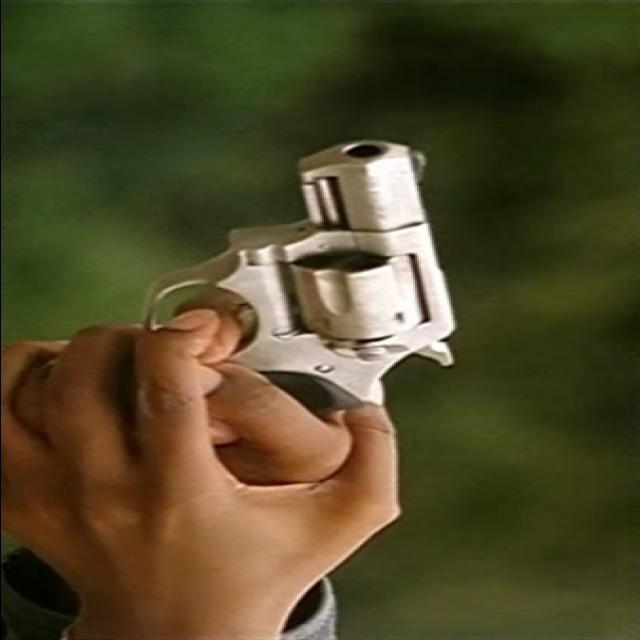weapons: (120, 111, 491, 469)
